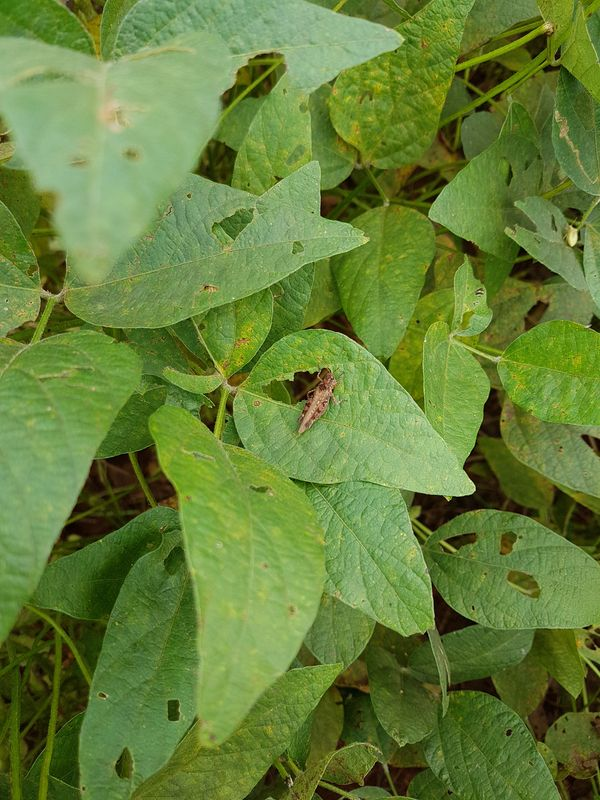Euschistus_heros_ninfa: (556, 219, 586, 254)
Rhammatocerus_schistocercoides: (285, 356, 359, 443)
